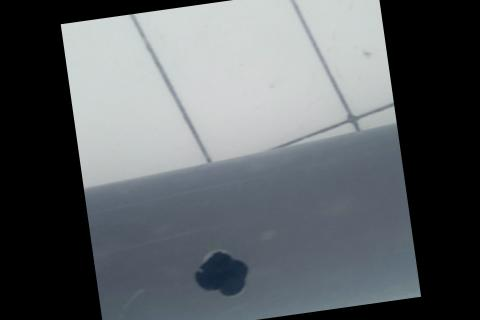kebocoran: (188, 245, 252, 303)
